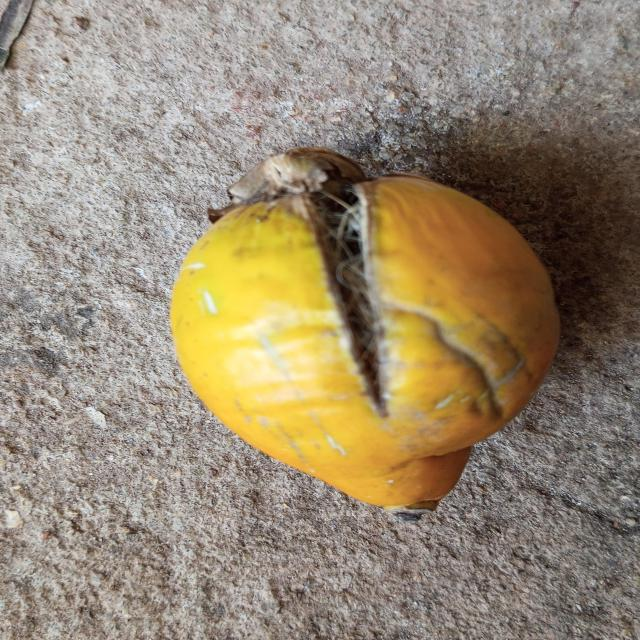damaged: (169, 151, 560, 512)
